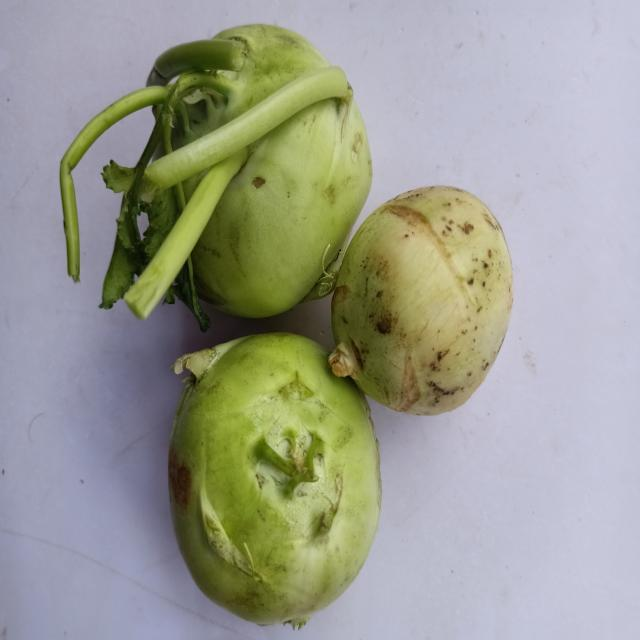Turnip: (54, 15, 380, 333), (164, 331, 392, 631), (326, 182, 517, 425)
